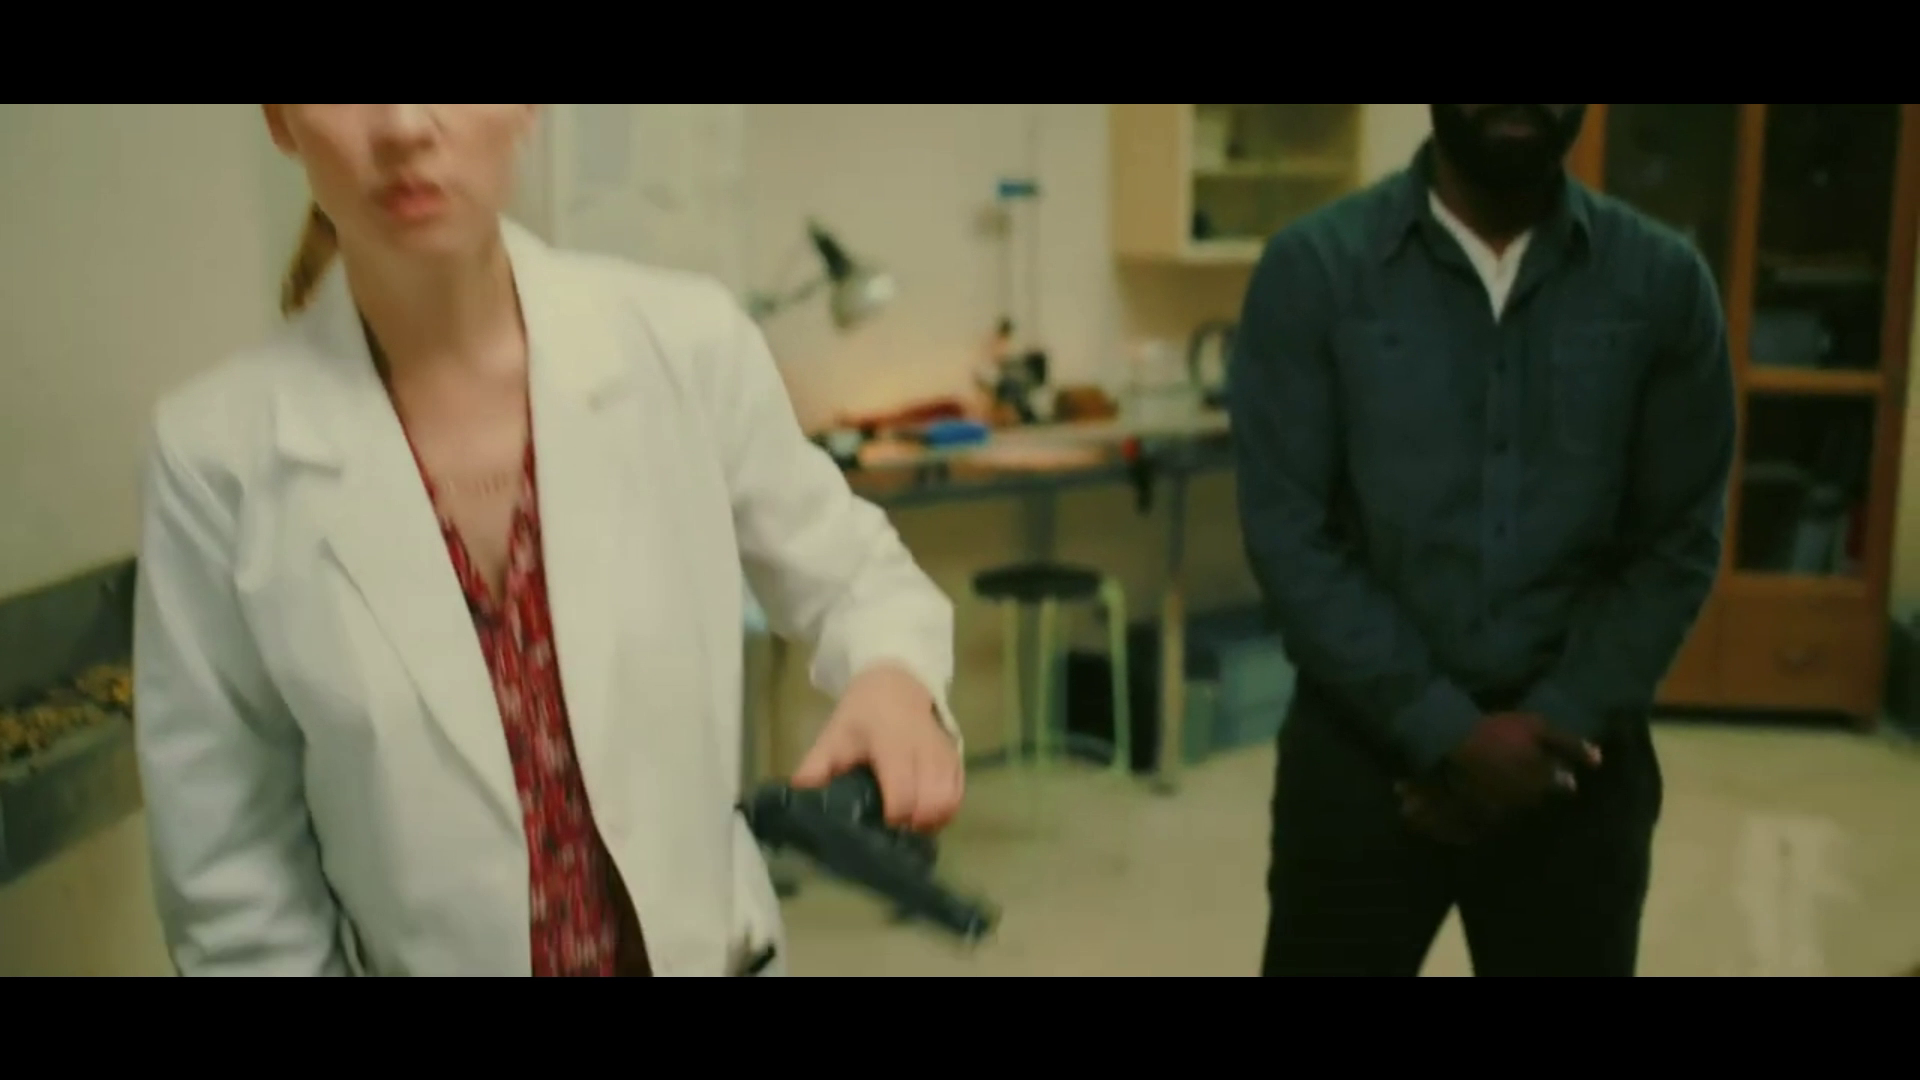SIG P226: (731, 775, 1000, 953)
